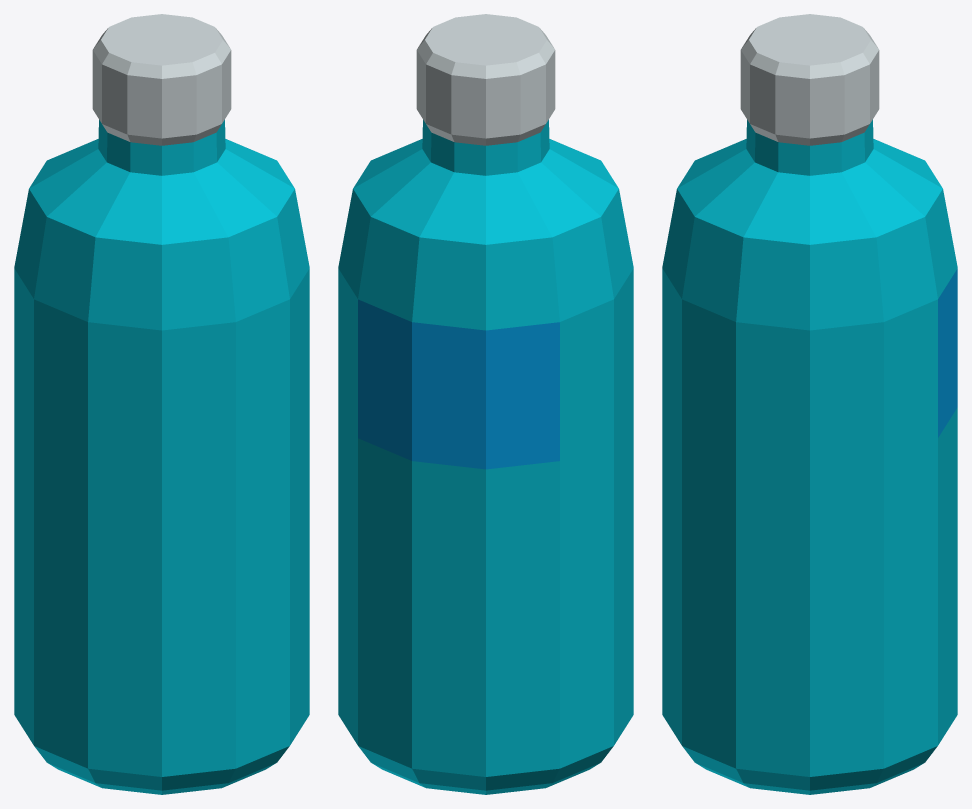
Rendered from trash4.fbx.
3 views of the same model, side by side, from view 1: azimuth 30°, elevation 25°; view 2: azimuth 150°, elevation 25°; view 3: azimuth 270°, elevation 25° (orthographic).
Visible parts, largest first — view 1: group663708940; view 2: group663708940; view 3: group663708940.
Part boxes in pixels (x1,y1,x2,y2): group663708940: [14, 14, 309, 794]; group663708940: [338, 14, 633, 794]; group663708940: [662, 14, 957, 794].
Bounding box in the file's own units: 20.2 × 53.12 × 20.2.
